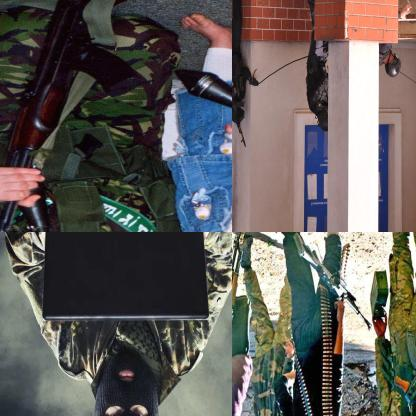rifle: (0, 0, 147, 231), (293, 232, 372, 332), (393, 306, 415, 406), (232, 70, 252, 150)
